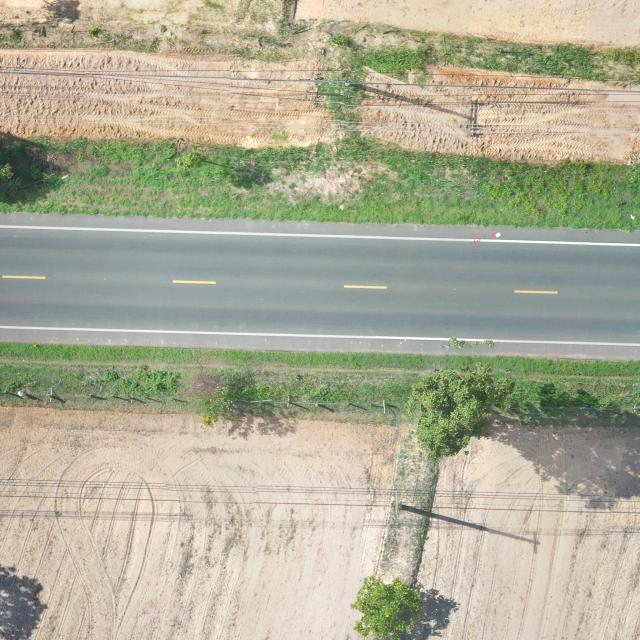Tree: (410, 367, 490, 458), (349, 574, 422, 640), (198, 386, 244, 430), (175, 150, 208, 170)
